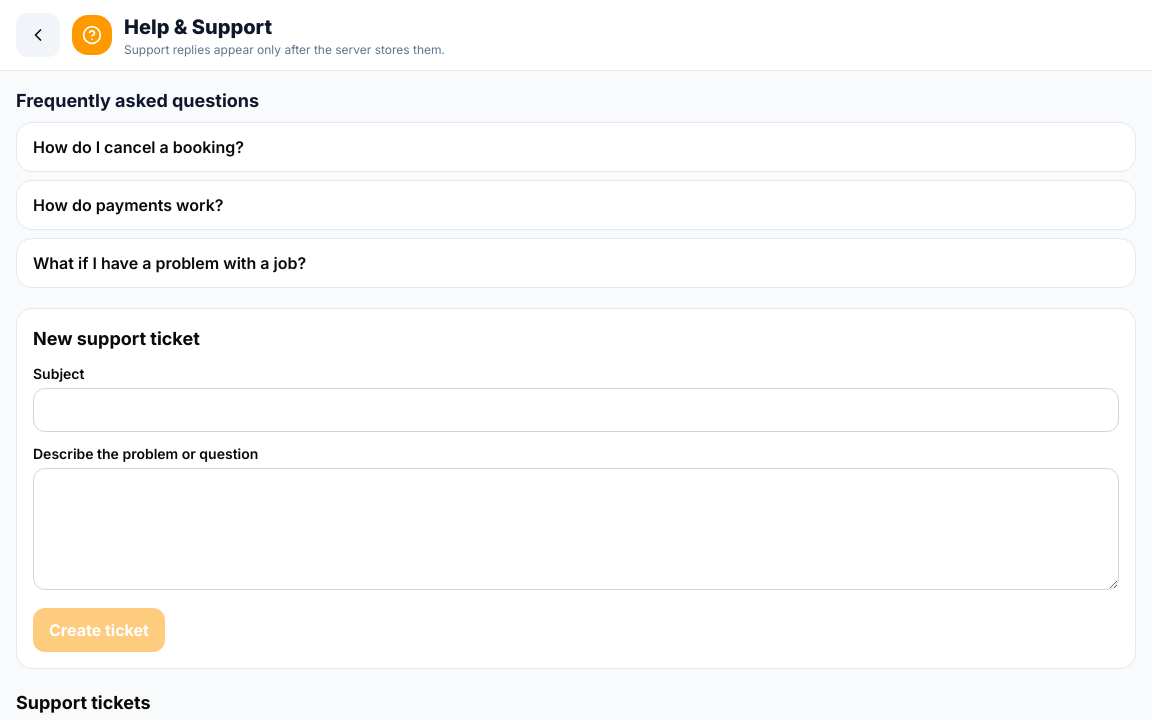
it: settings, launcher and admin bell › help: the payments answer points to no payment details that do not exist
The width and height of the screenshot is (1152, 720).
Click the button "How do payments work?".
click(128, 205)  # box [17,181,1135,229]
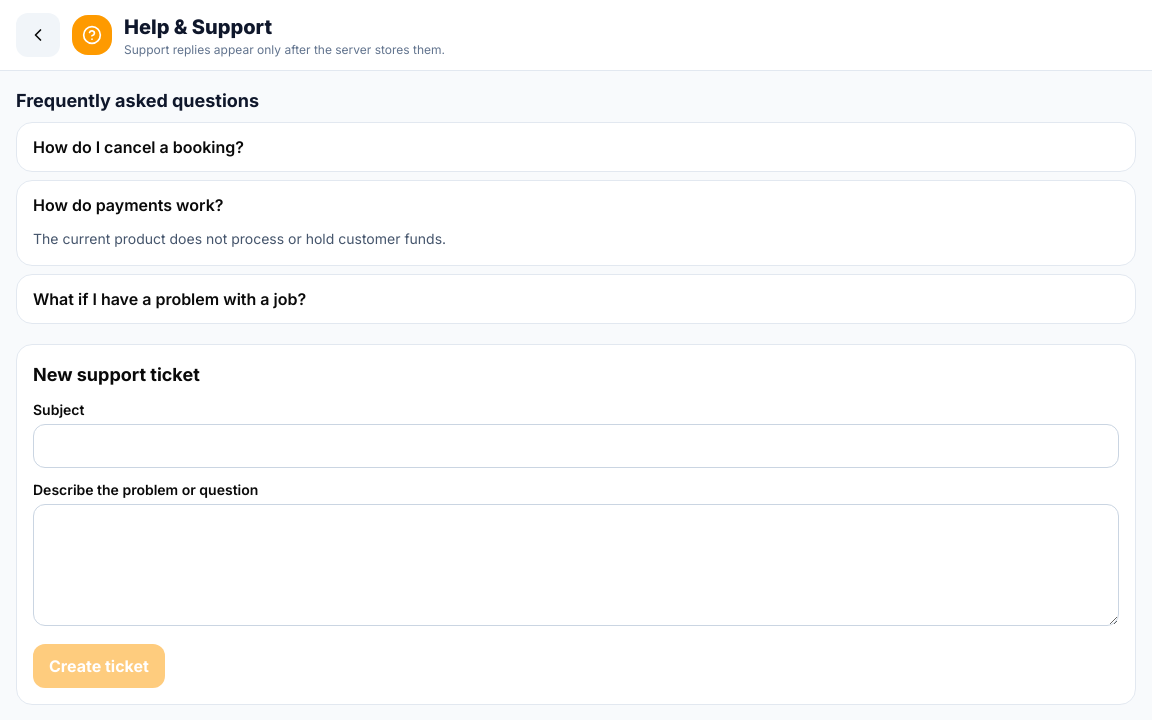
Expected: the text "The current product does not process or hold customer funds." is shown, [33,230,446,247]
